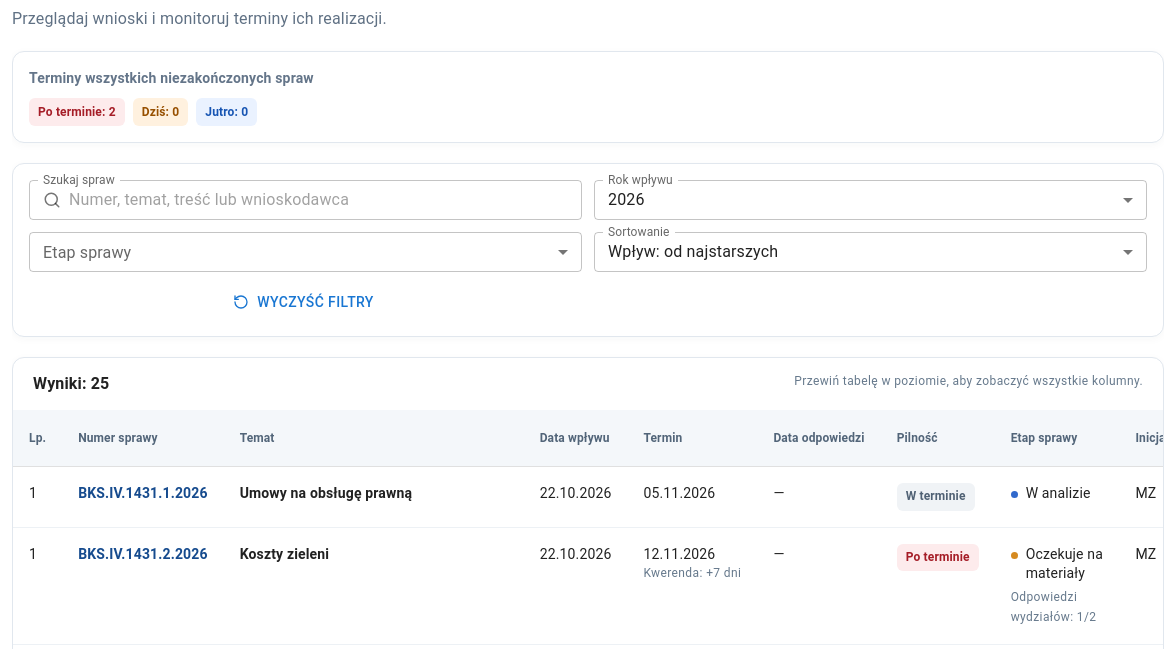
it: RegisterPage › updates year, status and page in the URL and resets them
Later steps or results of the test are not shown.
Check: the link "BKS.IV.1431.1.2026" is shown, box top-left (78, 485), bottom-right (208, 501)
Click the dropdown named "Rok wpływu". click: (626, 200)
box: top-left (608, 190), bottom-right (645, 209)
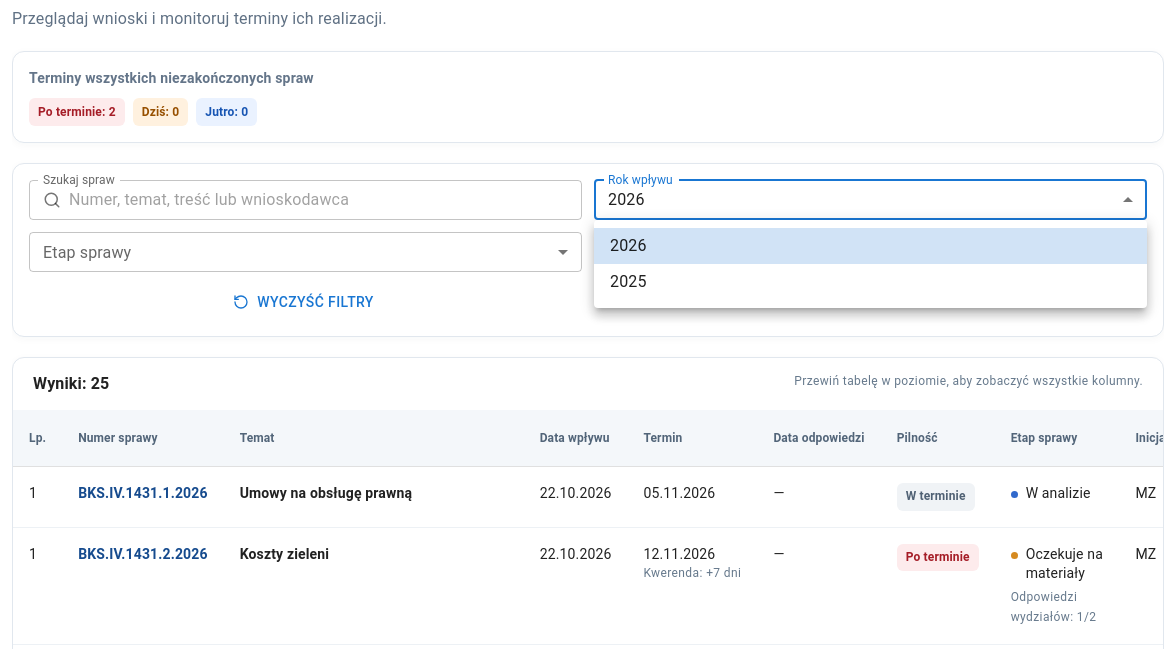
Click the option "2025". click: (628, 282)
box: top-left (610, 272), bottom-right (647, 291)
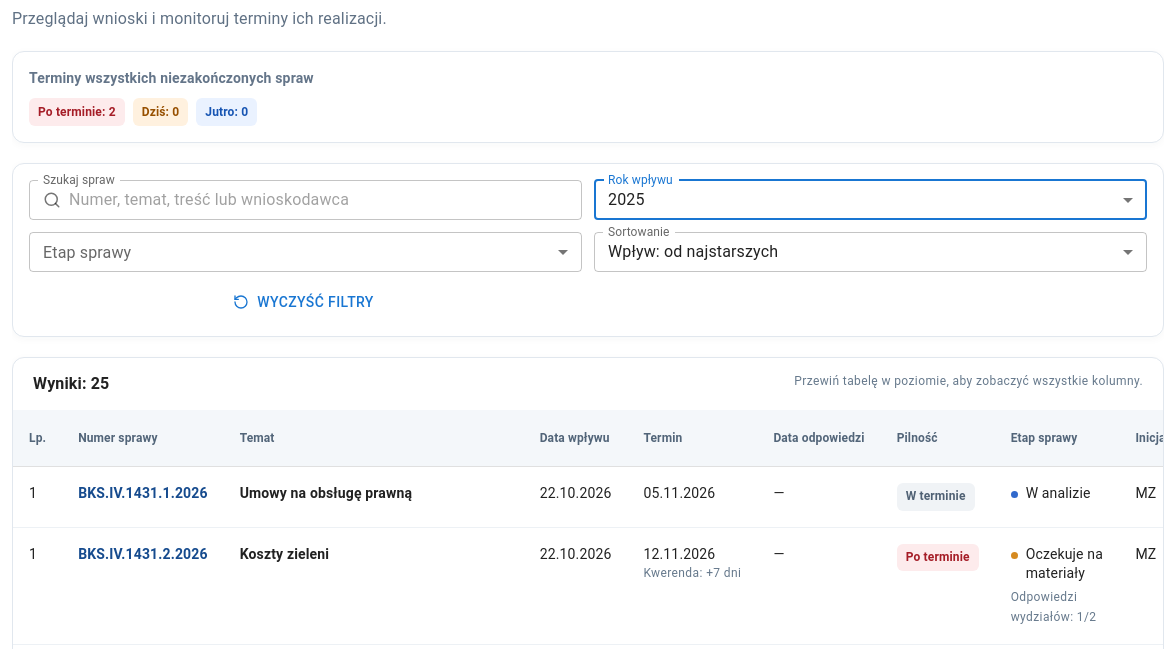
Click the dropdown named "Etap sprawy". click: (306, 252)
box: top-left (29, 232), bottom-right (582, 272)
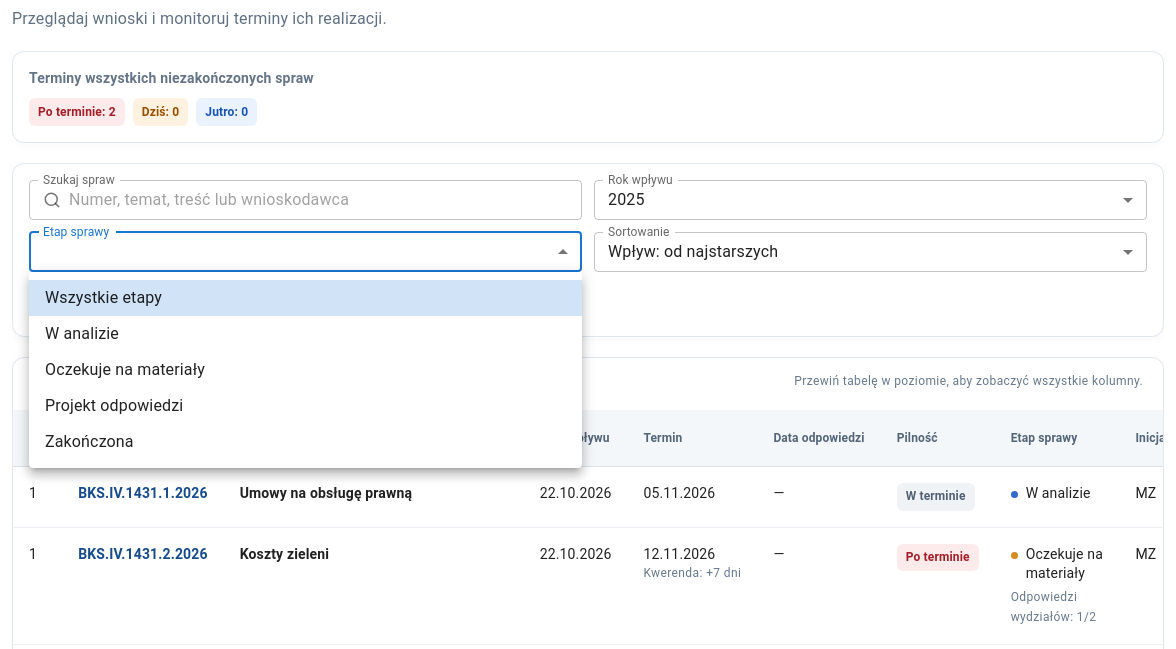
Click the option "Zakończona". click: (89, 442)
box: top-left (45, 432), bottom-right (134, 451)
(page scrolled)
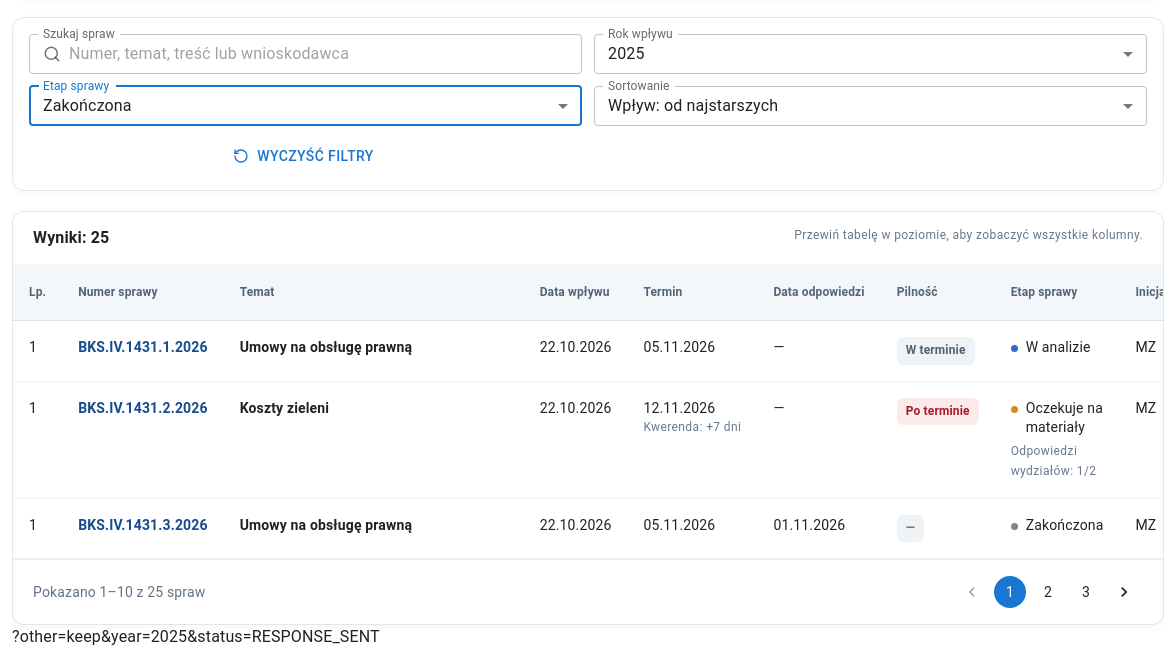
Check: the text with test id "location" shows "status=RESPONSE_SENT", box top-left (12, 627), bottom-right (380, 646)
Click the button named "Go to page 2". click: (1048, 592)
box: top-left (1032, 576), bottom-right (1064, 608)
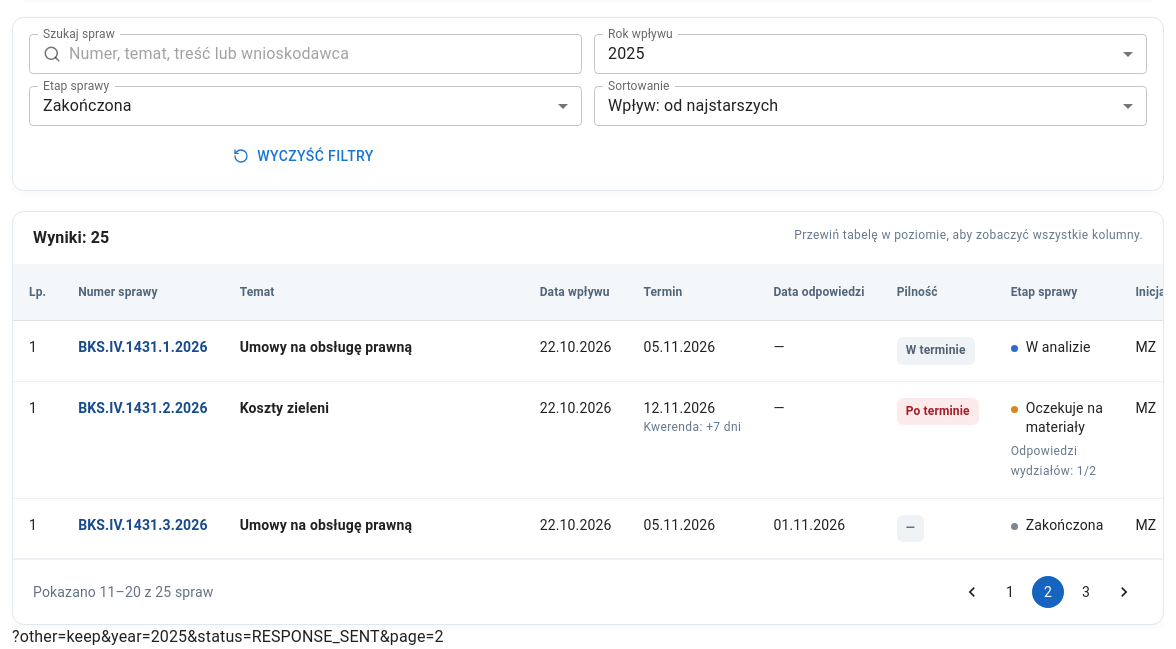
Check: the text with test id "location" shows "page=2", box top-left (12, 627), bottom-right (444, 646)
